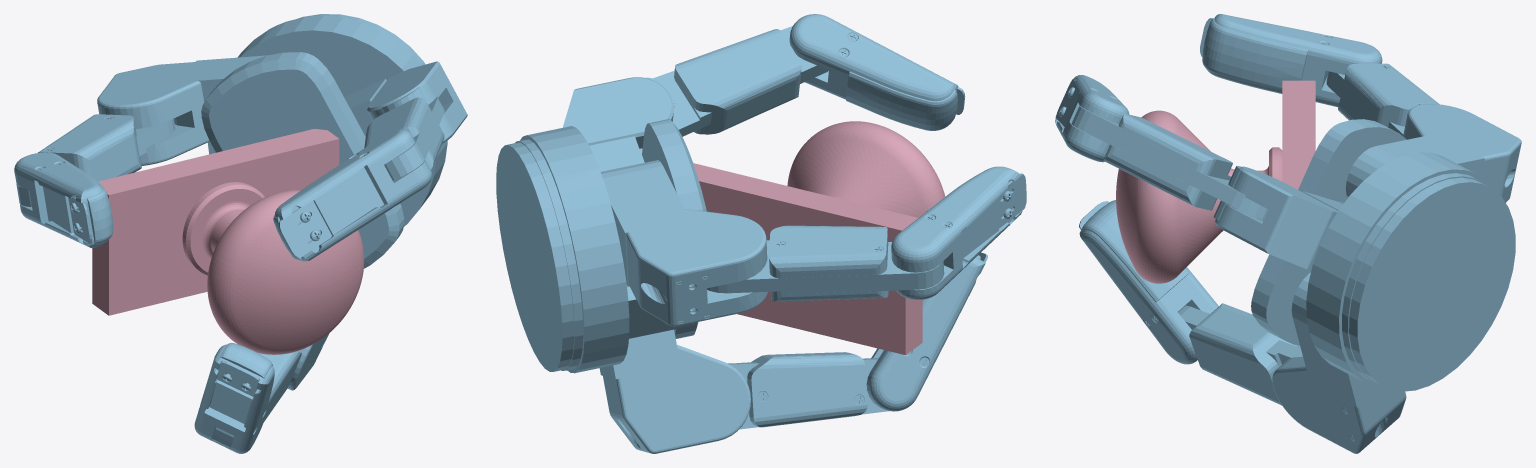
3 renders of one model, left to right at view 1: azimuth 30°, elevation 25°; view 2: azimuth 150°, elevation 25°; view 3: azimuth 270°, elevation 25°, orthographic. The views are drawn at different scales.
Visible parts, largest first — view 1: world, door_knob.stl; view 2: world, door_knob.stl; view 3: world, door_knob.stl.
Boxes of the visible parts, <box> form: world: <box>14,14,467,453</box>; door_knob.stl: <box>92,129,364,354</box>; world: <box>496,14,1026,453</box>; door_knob.stl: <box>693,121,945,355</box>; world: <box>1055,14,1521,453</box>; door_knob.stl: <box>1116,80,1315,283</box>.
Size of the model in its own units: 0.1902 by 0.1402 by 0.1752.
